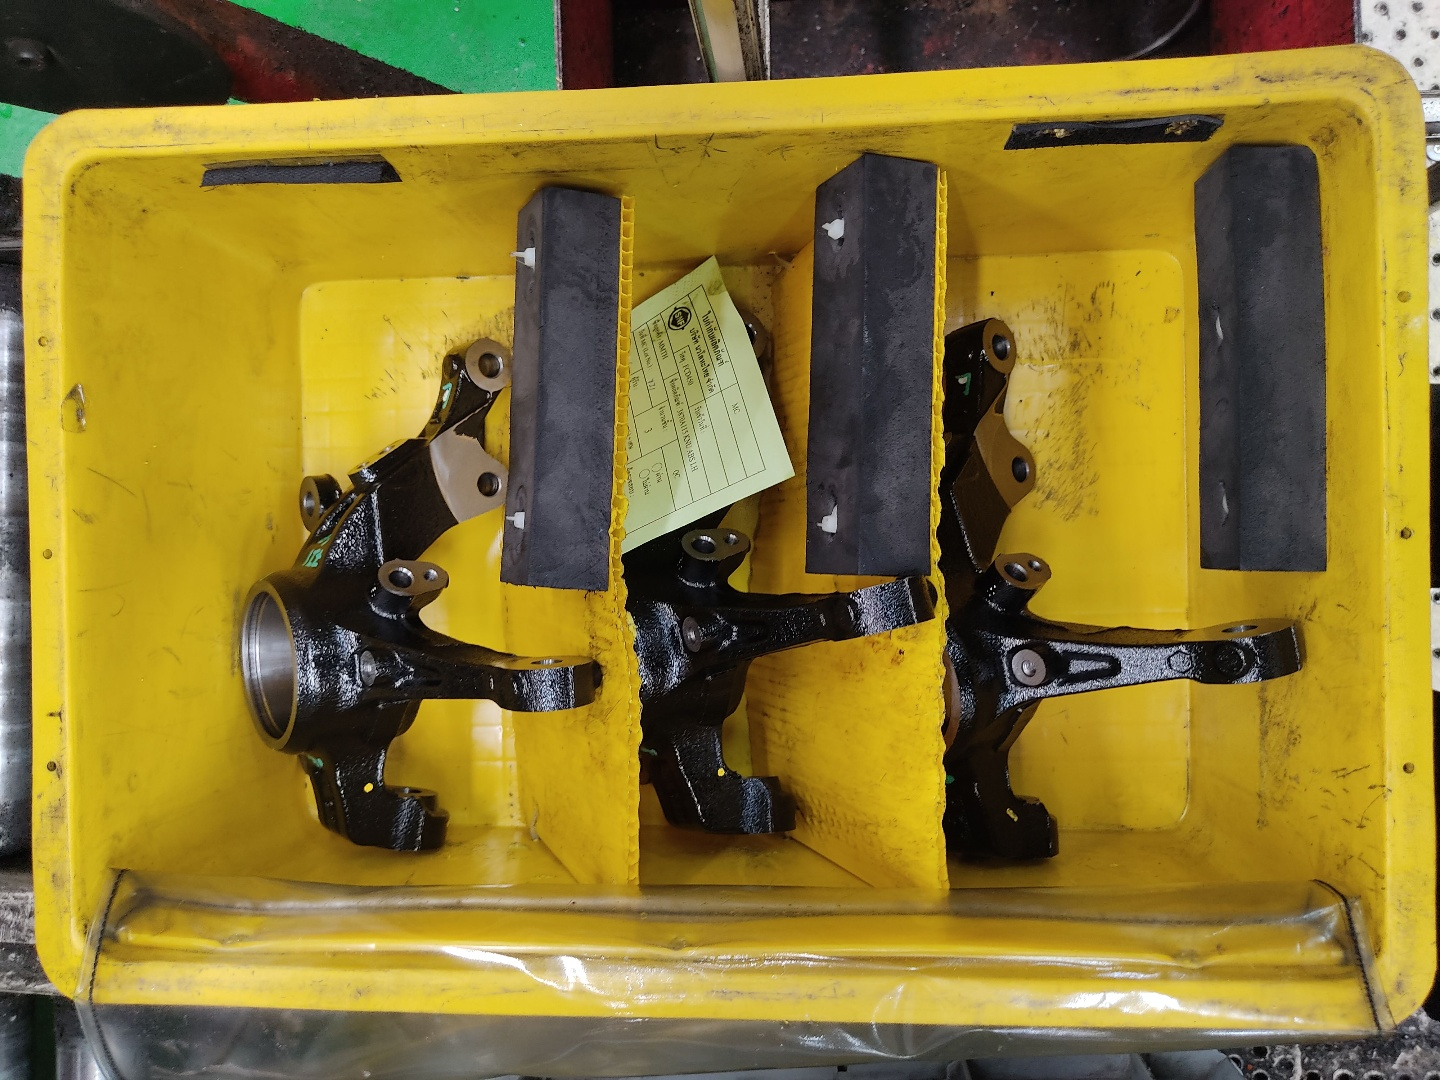abs-lh: (929, 309, 1318, 878), (232, 331, 611, 861), (615, 299, 940, 843)
